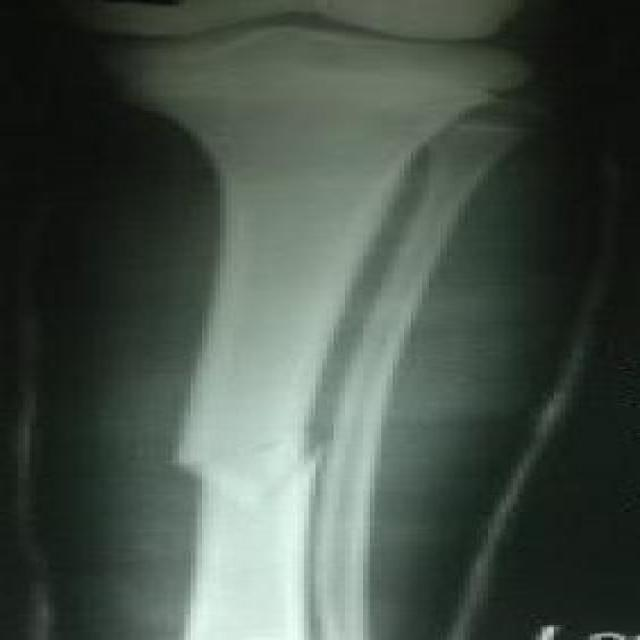bone: (111, 383, 424, 527)
